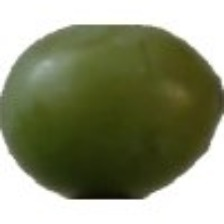grapes: (24, 17, 202, 179)
